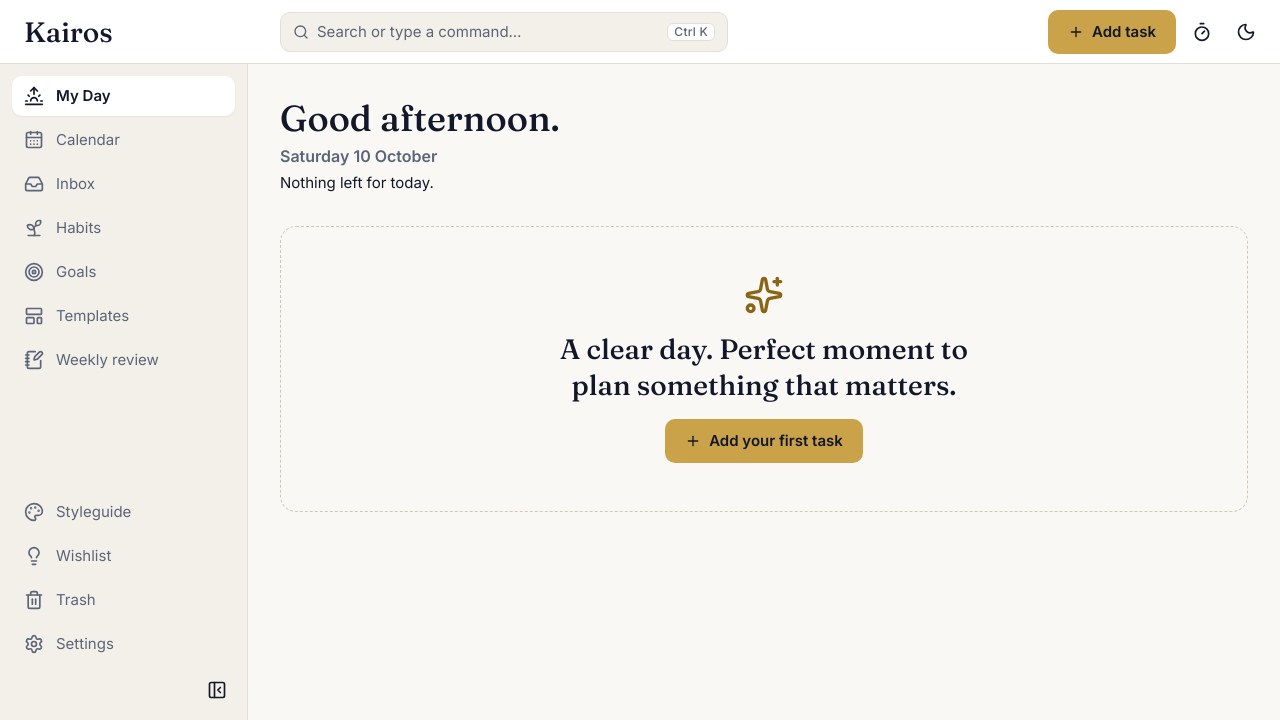
App shell › toggles the theme from the top bar
The image size is (1280, 720).
Step 1. Click the button named "Switch to dark theme" → {"x": 1246, "y": 32}, box x1=1228 y1=14 x2=1264 y2=50
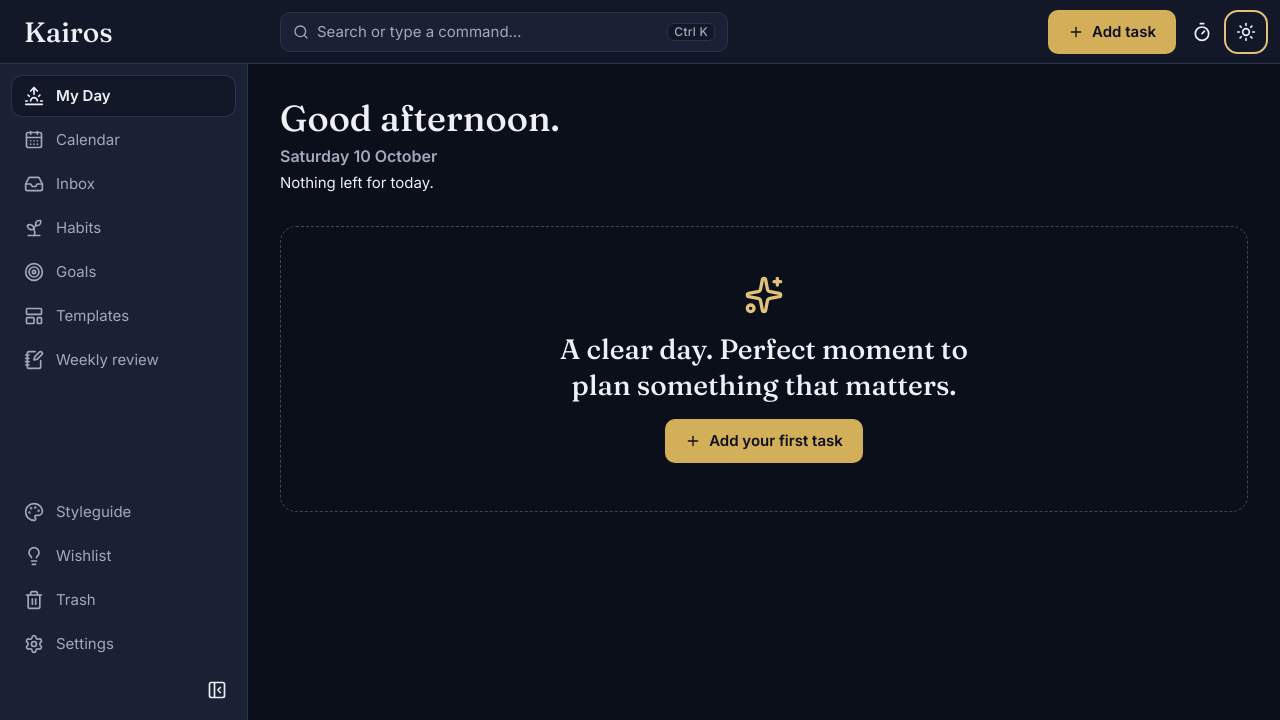
Expected: the button named "Switch to light theme" is shown, x1=1228 y1=14 x2=1264 y2=50
